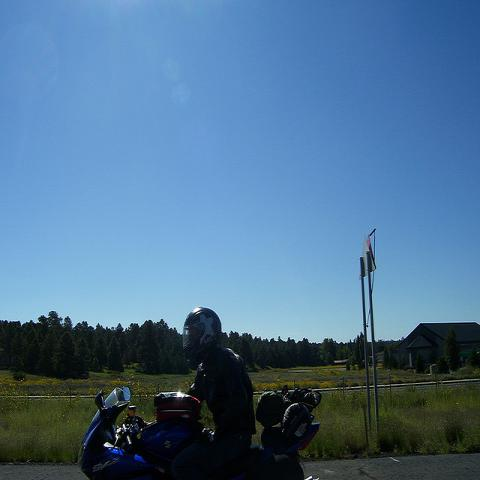motorcycle: (77, 383, 322, 479)
